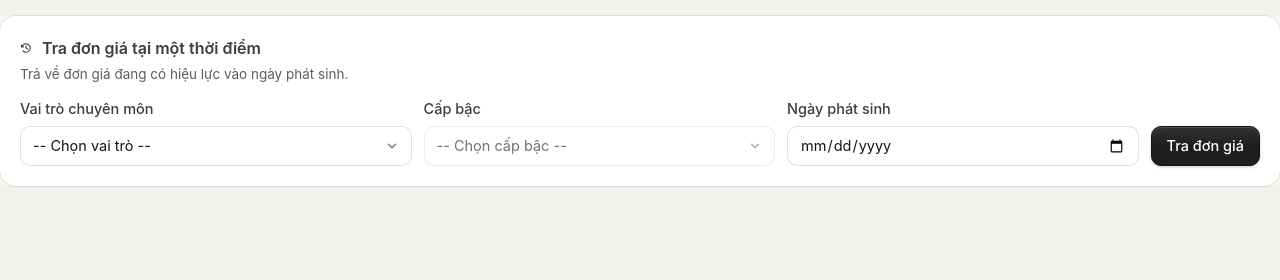
RateResolveLookup (NCL-07-CN-002 — Đặt hiệu lực theo thời điểm cho đơn giá) › 404 hiển thị như thông báo thông tin (không phải lỗi hệ thống), giữ nguyên message backend
Step 1. Select "Tester" in the dropdown labelled "Vai trò chuyên môn" → (216,146), box [20,126,412,166]
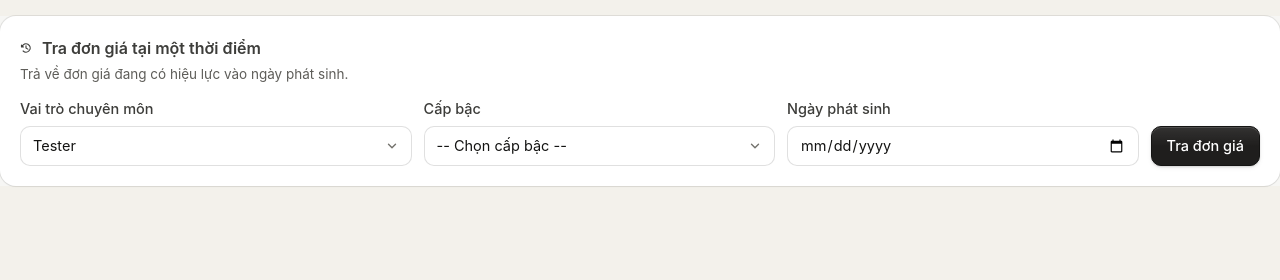
Step 2. Select "Junior" in the dropdown labelled "Cấp bậc" → (599,146), box [424,126,775,166]
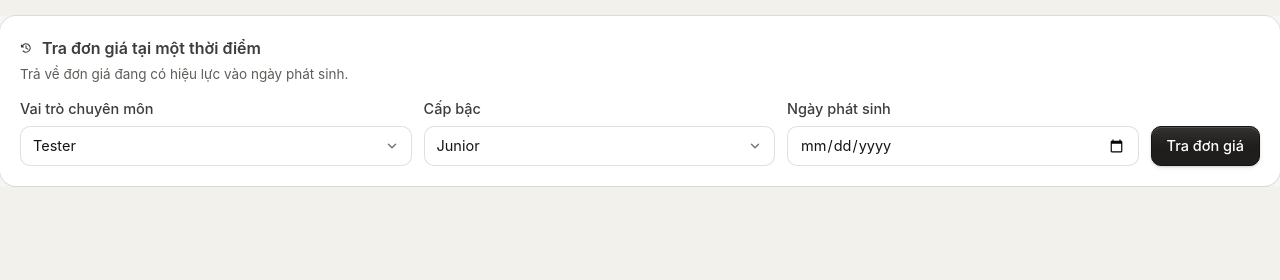
Step 3. Type "2020-01-01" into the date field labelled "Ngày phát sinh" → (963,146), box [787,126,1138,166]
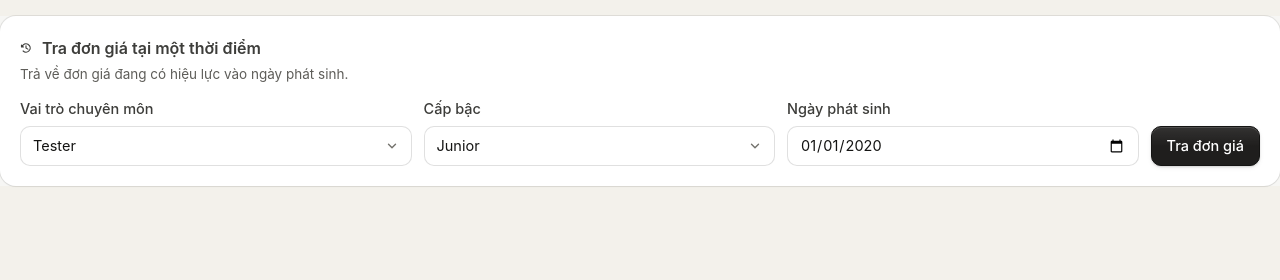
Step 4. Click the button "Tra đơn giá" → (1205,146), box [1150,126,1260,166]
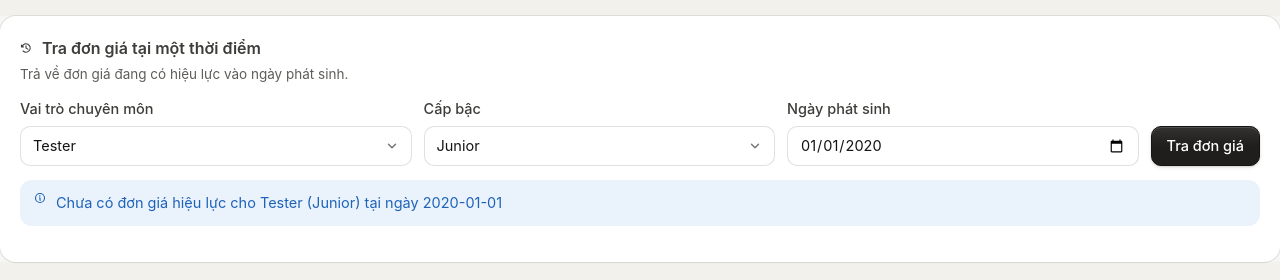
Expected: the message with test id "rate-resolve-not-found" reads "Chưa có đơn giá hiệu lực cho Tester (Junior) tại ngày 2020-01-01", [56,194,502,211]
